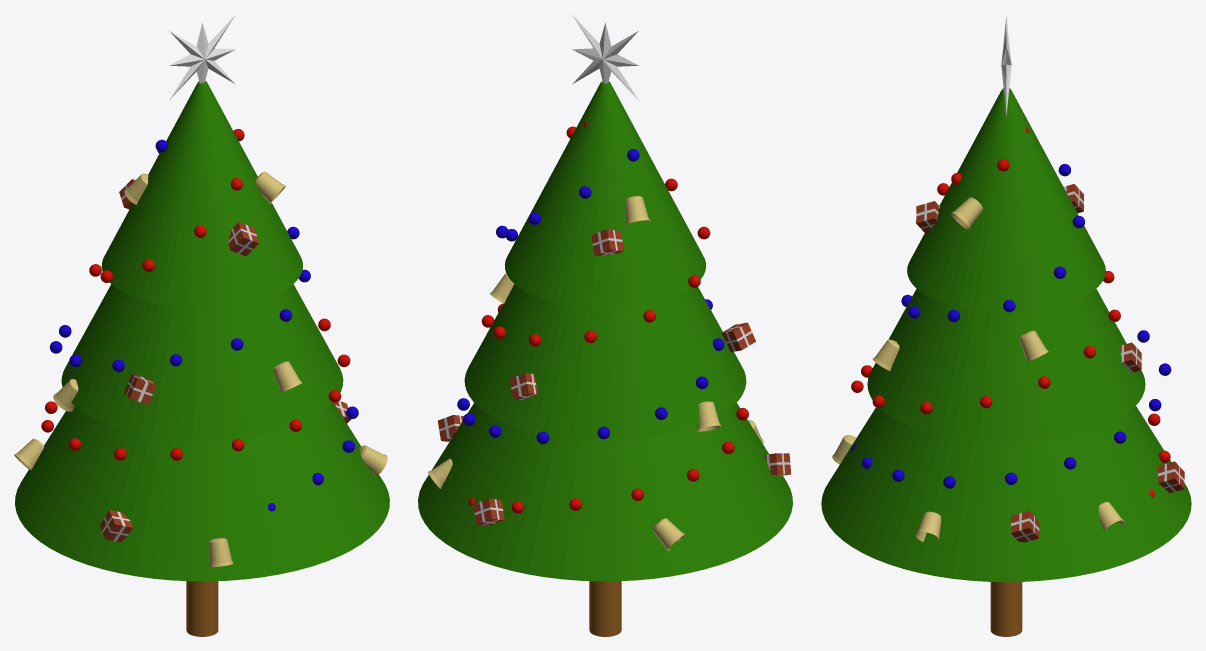
Rendered from Ctree.fbx.
3 renders of one model, left to right at view 1: azimuth 30°, elevation 25°; view 2: azimuth 150°, elevation 25°; view 3: azimuth 270°, elevation 25°, orthographic.
Parts seen in each view (by area): view 1: Cylinder, Sphere, Sphere.001, Plane, Cube.006, Cube.001, Cube.002, Cylinder.001, Cylinder.002, Cylinder.007, Cylinder.008; view 2: Cylinder, Sphere, Sphere.001, Plane, Cube.007, Cube.005, Cube.002, Cube.003, Cylinder.006, Cylinder.005, Cylinder.004; view 3: Cylinder, Sphere.001, Sphere, Cube.004, Cube.005, Cylinder.007, Plane, Cylinder.003, Cube.006, Cylinder.008.
Boxes of the visible parts, x1,y1,x2,y2 form: Cylinder: (15, 81, 389, 636); Sphere: (41, 129, 350, 460); Sphere.001: (49, 139, 358, 511); Plane: (169, 14, 235, 100); Cube.006: (228, 222, 259, 256); Cube.001: (99, 510, 132, 542); Cube.002: (124, 373, 155, 404); Cylinder.001: (208, 538, 233, 567); Cylinder.002: (273, 361, 302, 393); Cylinder.007: (255, 171, 285, 203); Cylinder.008: (359, 445, 387, 475); Cylinder: (418, 81, 792, 636); Sphere: (468, 121, 748, 513); Sphere.001: (457, 149, 724, 444); Plane: (572, 14, 638, 100); Cube.007: (591, 229, 623, 255); Cube.005: (473, 498, 504, 525); Cube.002: (721, 322, 755, 352); Cube.003: (509, 373, 537, 399); Cylinder.006: (652, 518, 685, 550); Cylinder.005: (697, 401, 721, 431); Cylinder.004: (625, 196, 649, 224); Cylinder: (821, 88, 1191, 636); Sphere.001: (851, 164, 1171, 488); Sphere: (851, 127, 1170, 497); Cube.004: (1011, 510, 1039, 542); Cube.005: (1157, 461, 1184, 493); Cylinder.007: (951, 197, 983, 229); Plane: (1001, 14, 1011, 115); Cylinder.003: (1019, 330, 1048, 362); Cube.006: (916, 201, 939, 233); Cylinder.008: (915, 511, 941, 542).
Size of the model in its own units: 567 by 1014 by 567.
